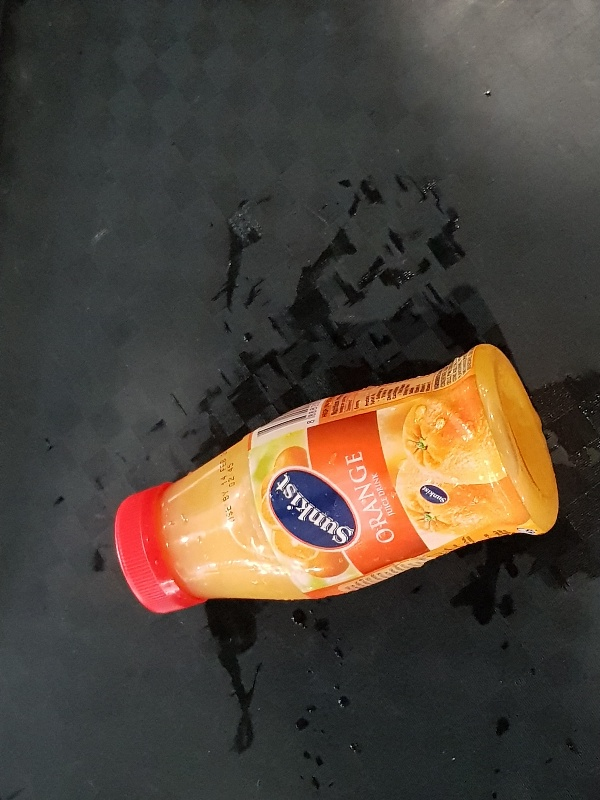Sunkist Orange Juice Drink: (115, 343, 559, 612)
